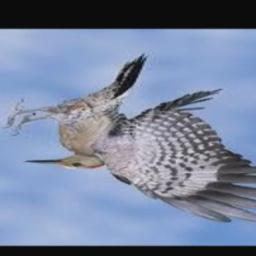Woodpecker: (3, 54, 256, 222)
